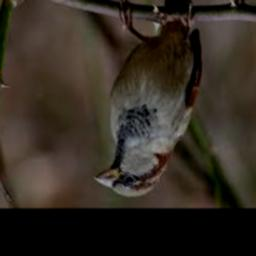Sparrow: (94, 0, 201, 197)
